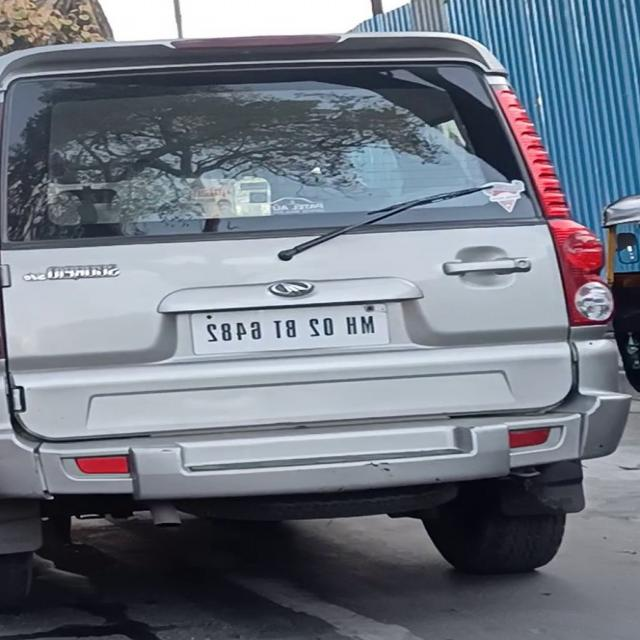license_plate: (183, 296, 399, 364)
